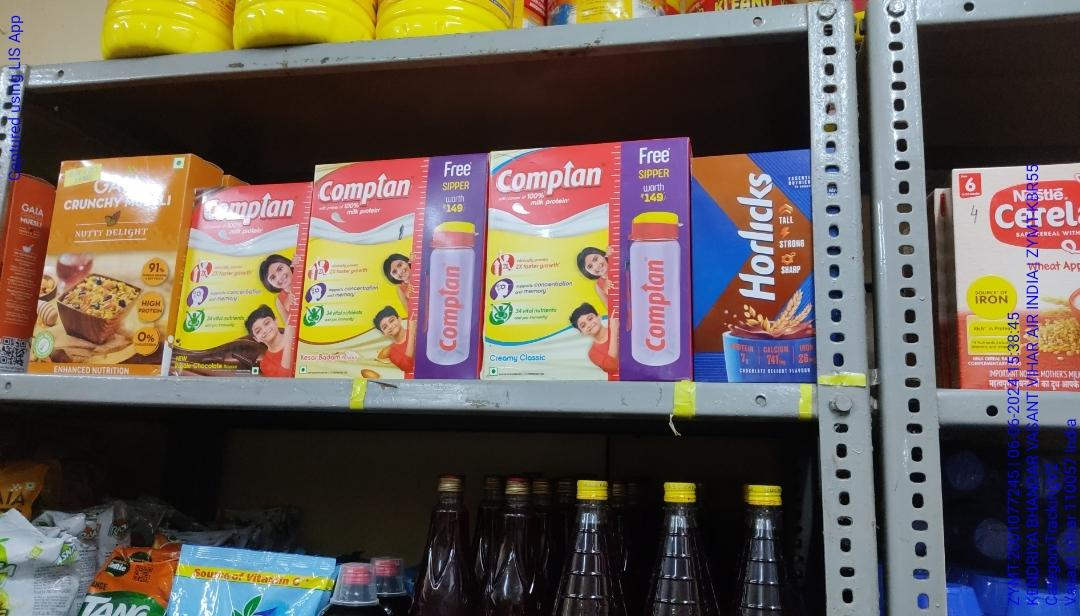HORLICK_CHOCOLATE_500_G_PACK: (689, 156, 817, 386)
